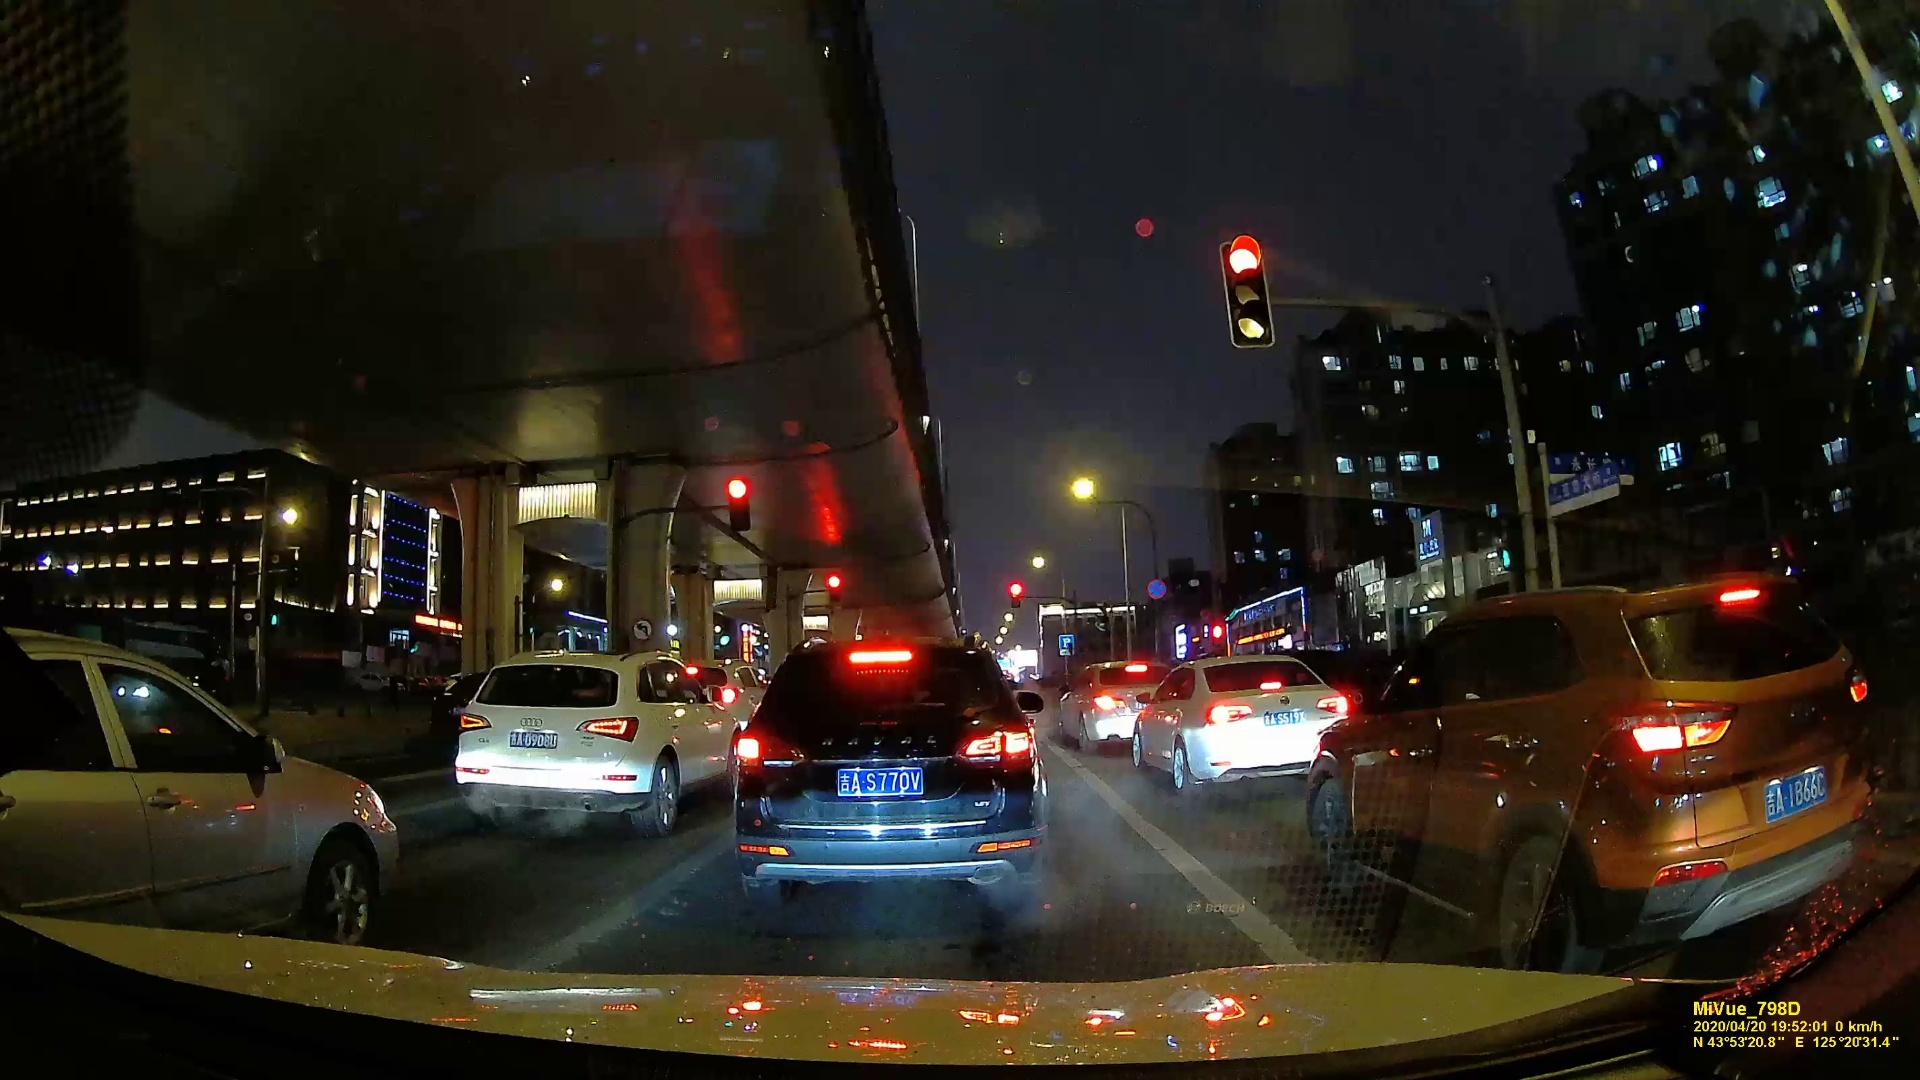traffic_sign: (1224, 236, 1273, 349), (1538, 467, 1629, 505), (1481, 497, 1524, 572), (723, 476, 749, 526), (1146, 578, 1168, 607), (824, 574, 843, 605), (632, 616, 653, 641), (1007, 582, 1025, 609)
vehicle: (1309, 578, 1886, 975), (4, 628, 392, 944), (732, 642, 1040, 914), (442, 649, 735, 832), (1129, 653, 1350, 796), (1064, 669, 1154, 752)
